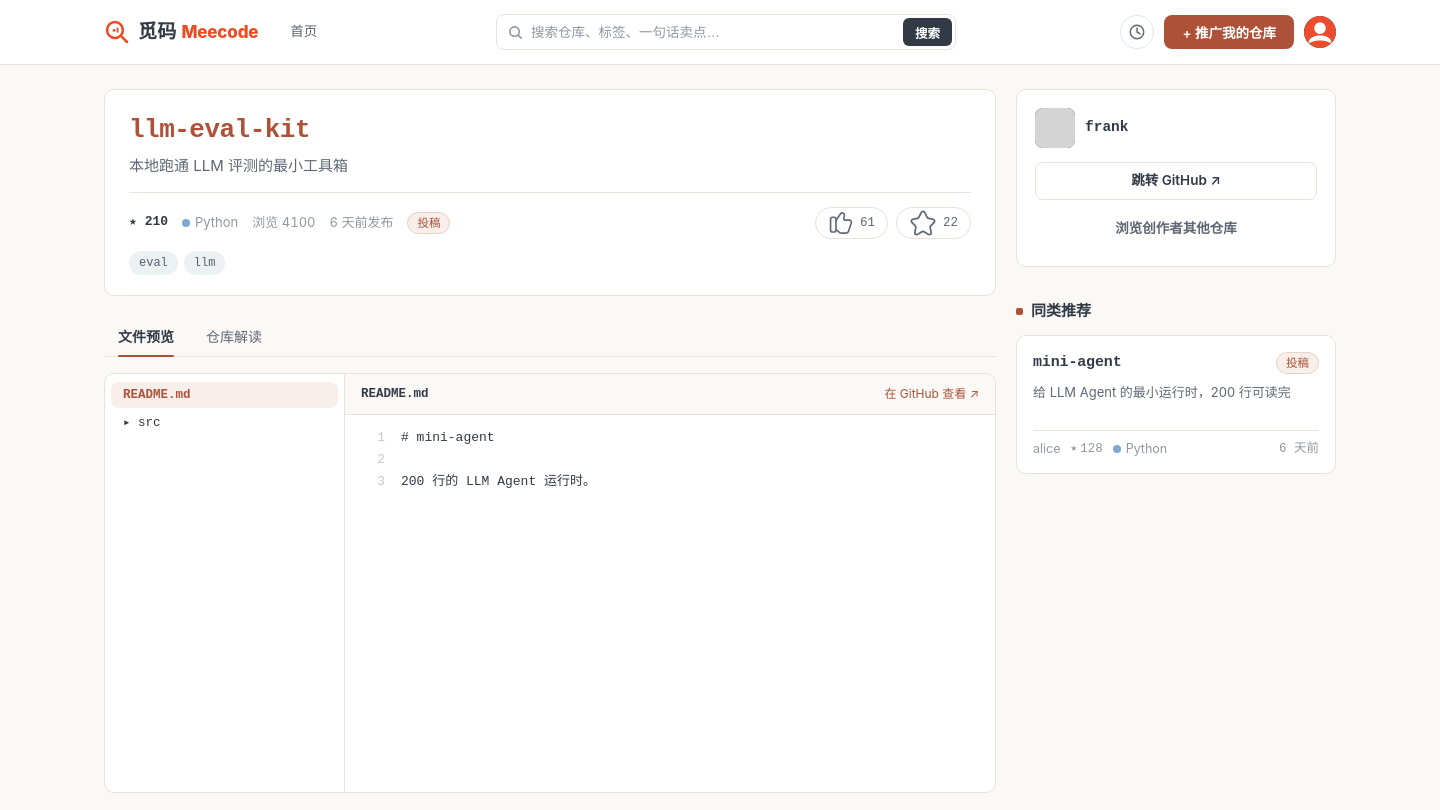
Test: RepoPage › 点赞失败回滚激活态并提示
expect the heading "llm-eval-kit" is shown: met, box x1=129 y1=115 x2=310 y2=145
Click the button named "点赞" at coordinates (852, 223), box x1=815 y1=207 x2=888 y2=239
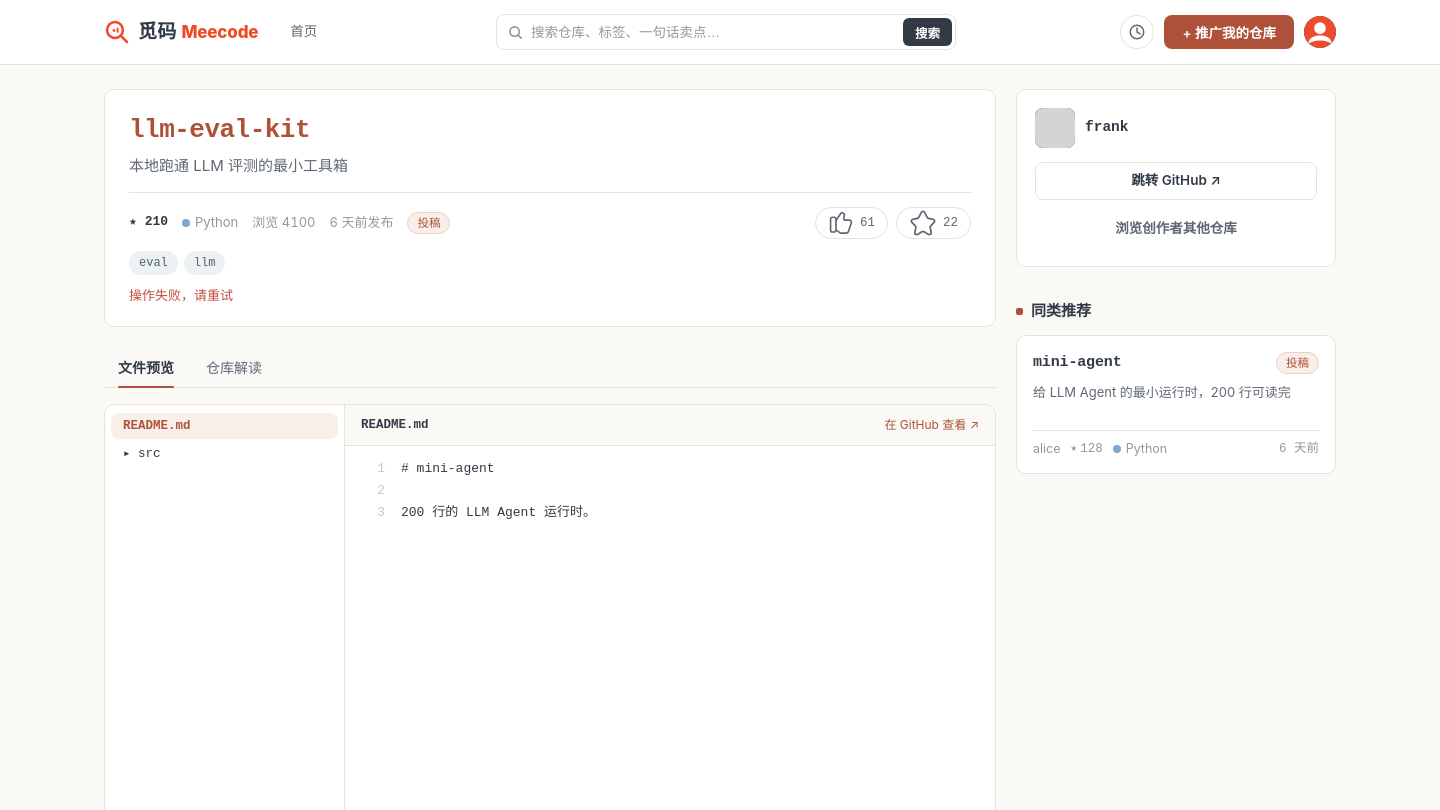
expect the message shows "操作失败": met, box x1=129 y1=287 x2=233 y2=303
